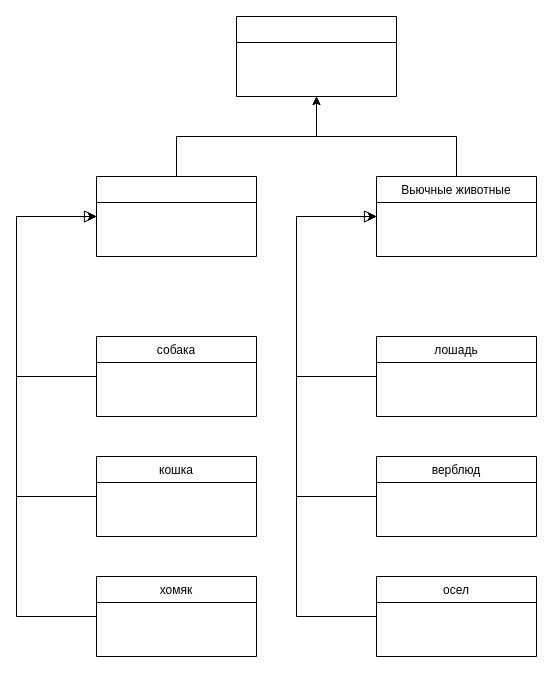
Image size: 553x673. Some labels were removed from this diagram. The centre of each missing label's shape, as x and y in pixels:
Домашние животные: the point at 176,216
Животные: the point at 316,56
